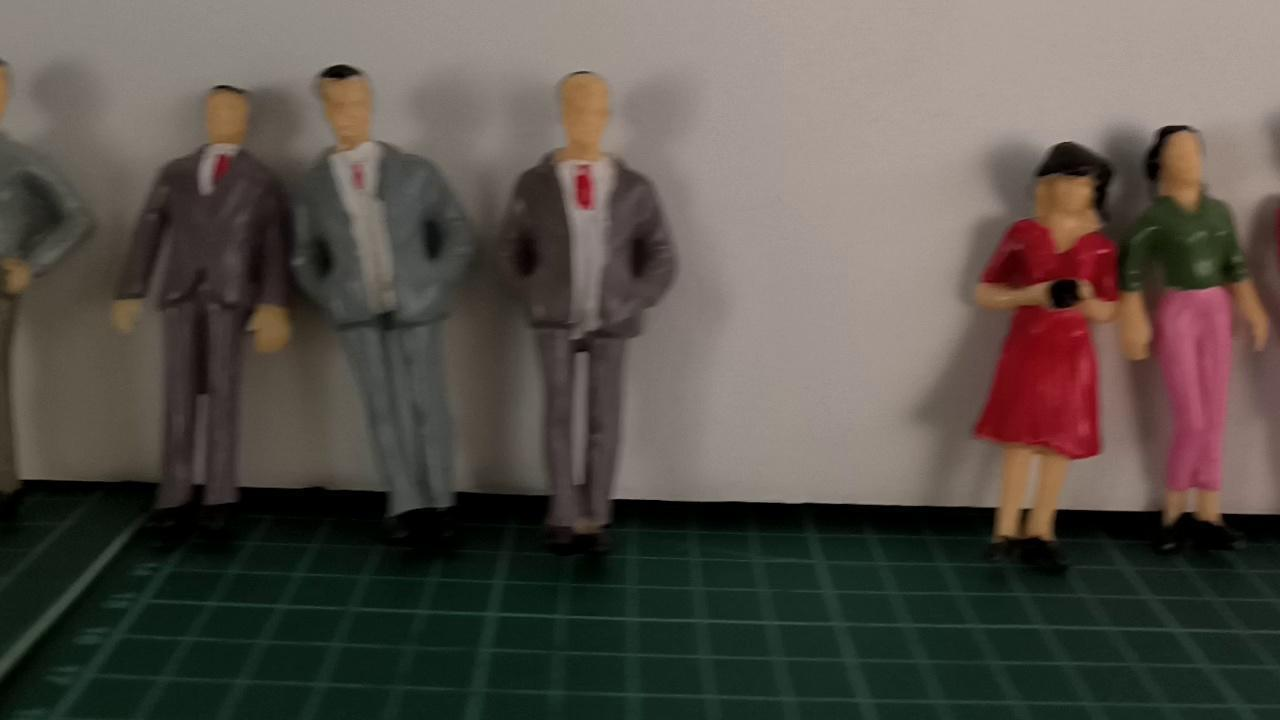human: (283, 61, 477, 558), (494, 60, 685, 551), (110, 83, 289, 553), (943, 134, 1126, 577), (1119, 122, 1272, 544), (0, 58, 98, 532)
